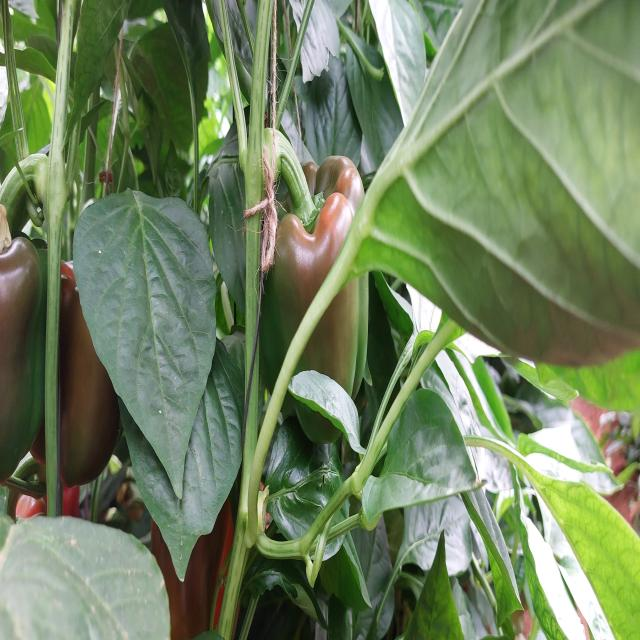BrownishRed--Can-be-Harvested: (254, 160, 378, 440), (65, 270, 122, 492), (2, 249, 59, 467)
